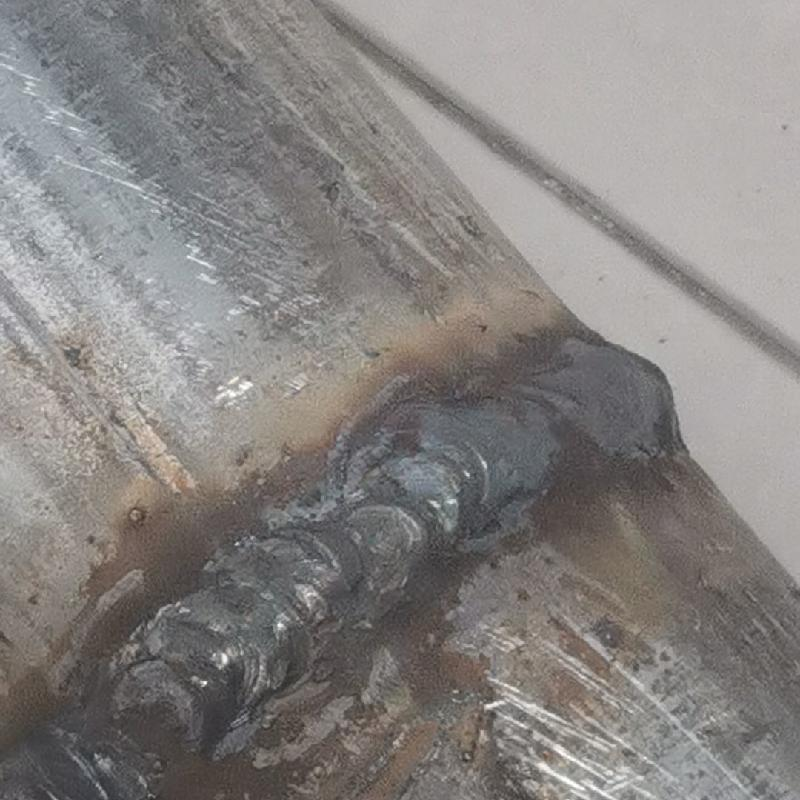good: (2, 301, 688, 794)
